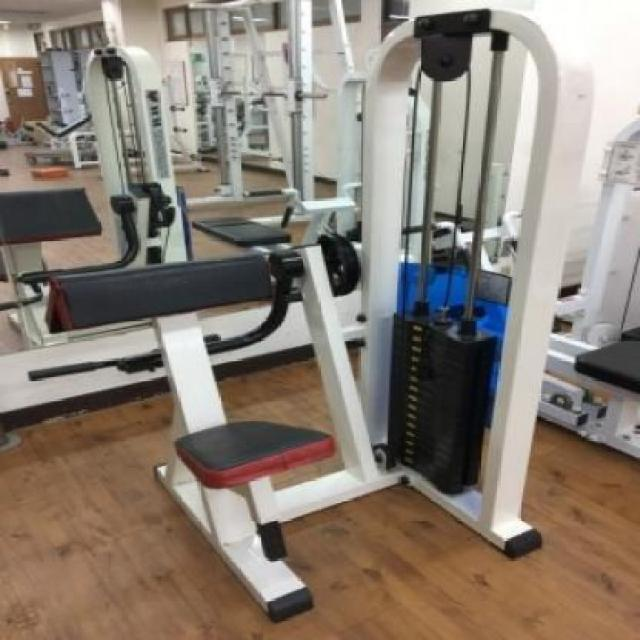arm curl machine: (29, 255, 563, 623)
